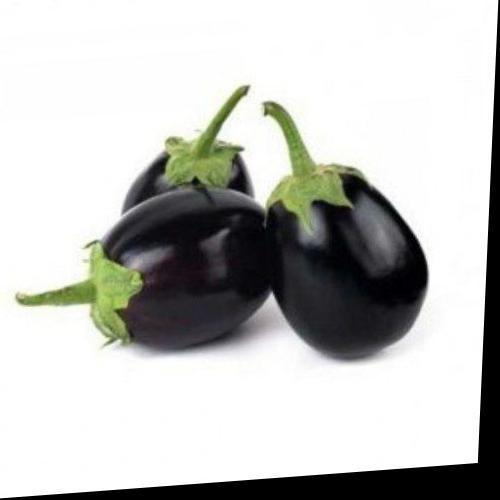eggplant: (50, 78, 432, 366), (7, 78, 312, 366), (17, 183, 301, 372), (268, 148, 435, 388)
